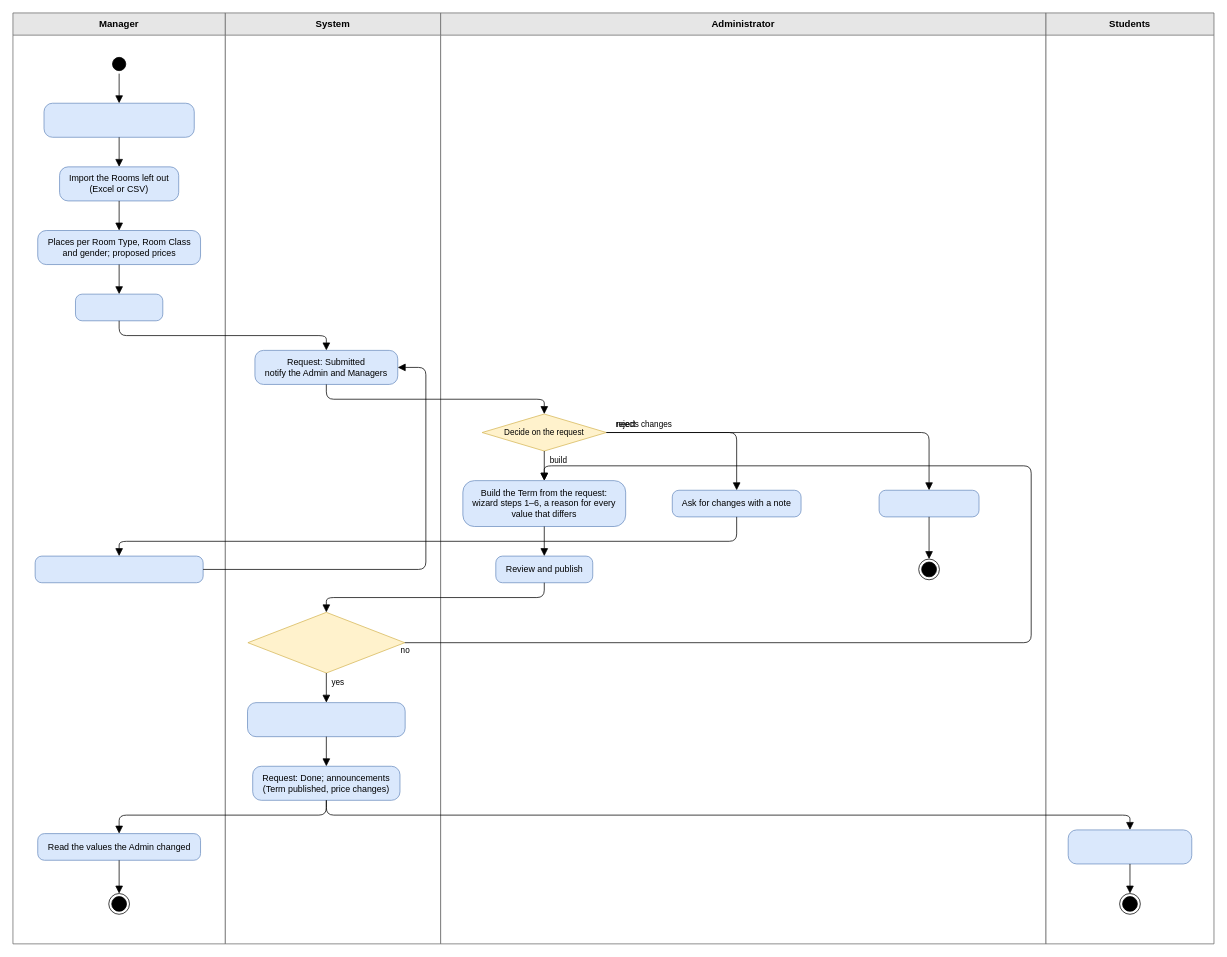
The diagram is 1227 pixels wide and 957 high, and some of its shapes have lost their labels. Each missing label, with the centre of its shape:
Change the request and send it again: point 118,569
Fill the request: Term, stay dates, milestones, Blocks: point 118,119
Fix prices, Deposit, Utility Deposit, rules for the Term; Term: Published: point 326,719
Reject with a reason: point 928,503
See the registration period on the dormitory board: point 1129,846
Send the request: point 119,307
Timeline valid? (M1 ≤ M2 ≤ … ≤ M7, stay after registration): point 326,642
